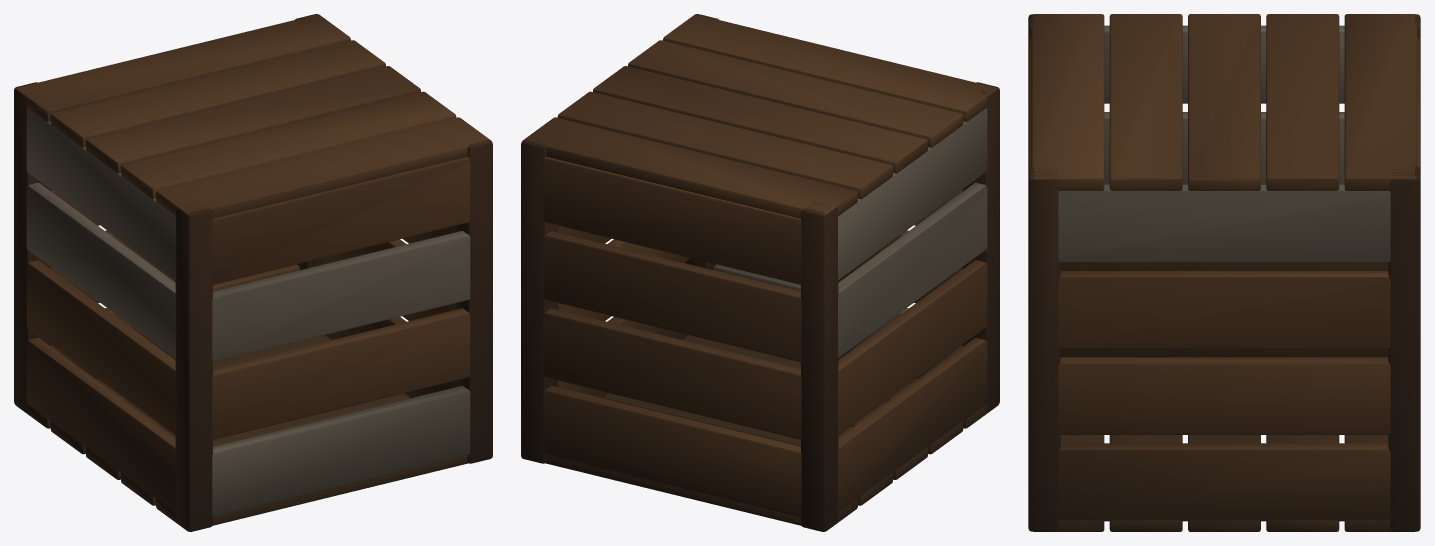
Rendered from Crate.glb.
The picture shows the model from 3 angles, left to right: view 1: azimuth 30°, elevation 25°; view 2: azimuth 150°, elevation 25°; view 3: azimuth 270°, elevation 25°; orthographic projection. The views are drawn at different scales.
Parts seen in each view (by area): view 1: Crate_wood, Crate_wood_old, Crate_wood_dark; view 2: Crate_wood, Crate_wood_dark, Crate_wood_old; view 3: Crate_wood, Crate_wood_old, Crate_wood_dark.
Part boxes in pixels (x1,y1,x2,y2): Crate_wood: [16, 14, 490, 527]; Crate_wood_old: [26, 108, 470, 517]; Crate_wood_dark: [14, 14, 492, 531]; Crate_wood: [523, 14, 997, 527]; Crate_wood_dark: [521, 14, 999, 531]; Crate_wood_old: [714, 108, 987, 378]; Crate_wood: [1029, 14, 1419, 531]; Crate_wood_old: [1058, 25, 1390, 262]; Crate_wood_dark: [1028, 14, 1420, 531].
Size of the model in its own units: 3.01 by 3 by 3.01.
